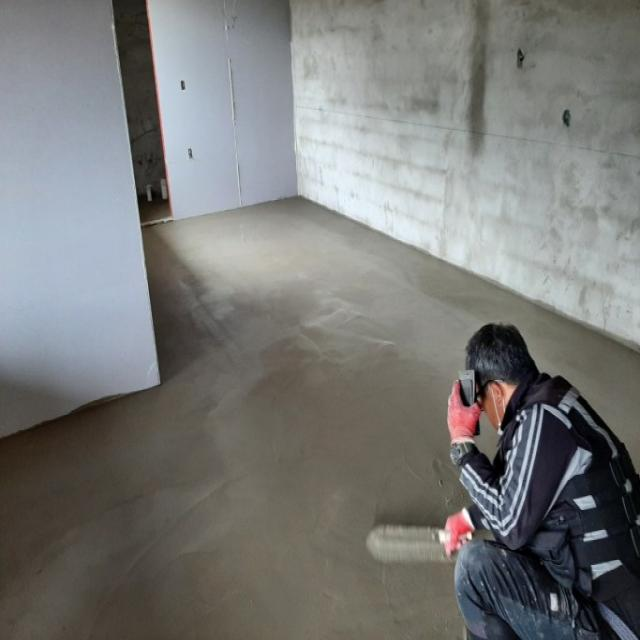Trowel: (366, 525, 472, 563)
